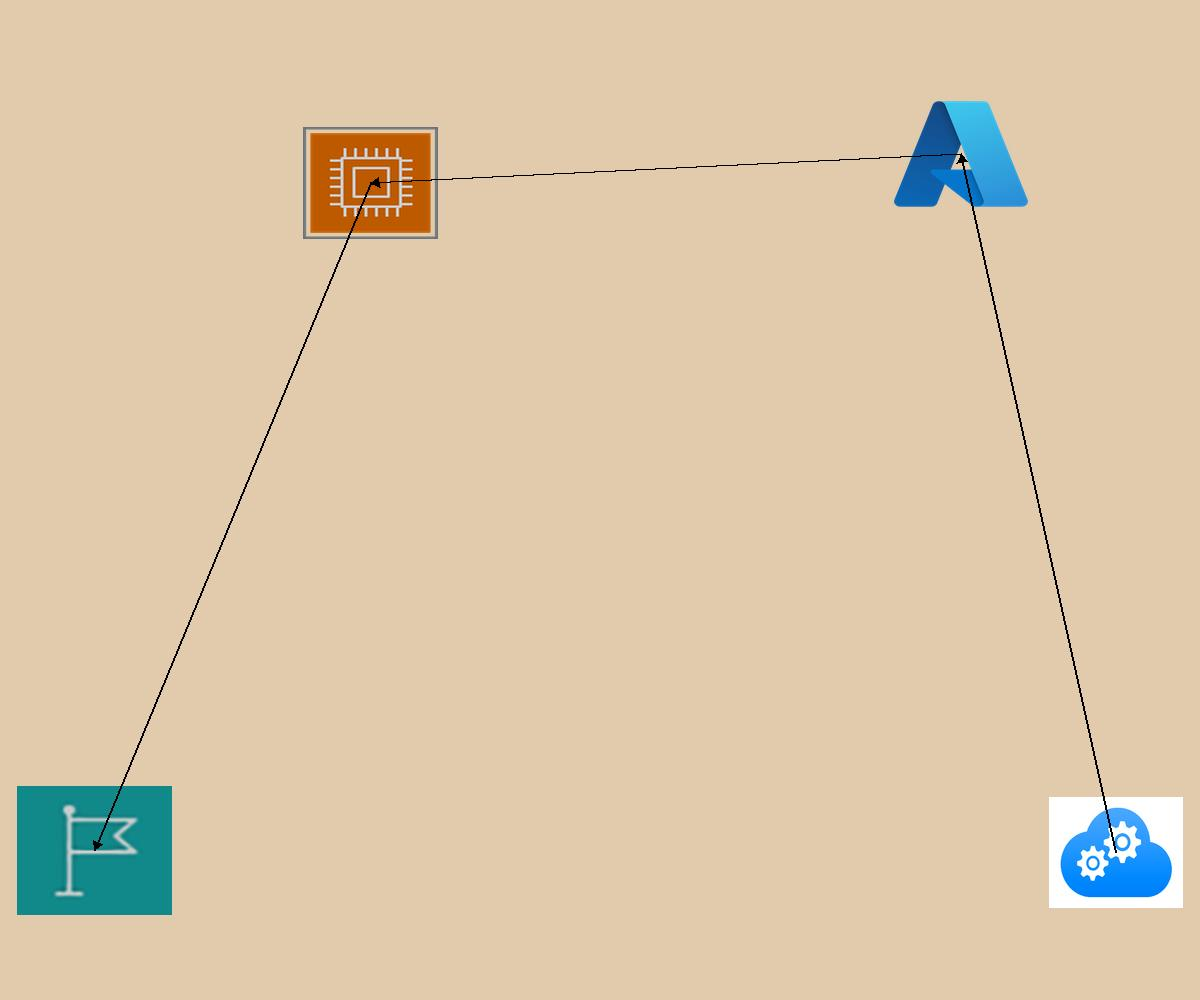AWS-Category_Compute: (303, 127, 438, 239)
AWS-Region: (17, 786, 172, 915)
Azure_cloud_services: (1049, 797, 1183, 908)
Azure_services: (888, 93, 1034, 215)
